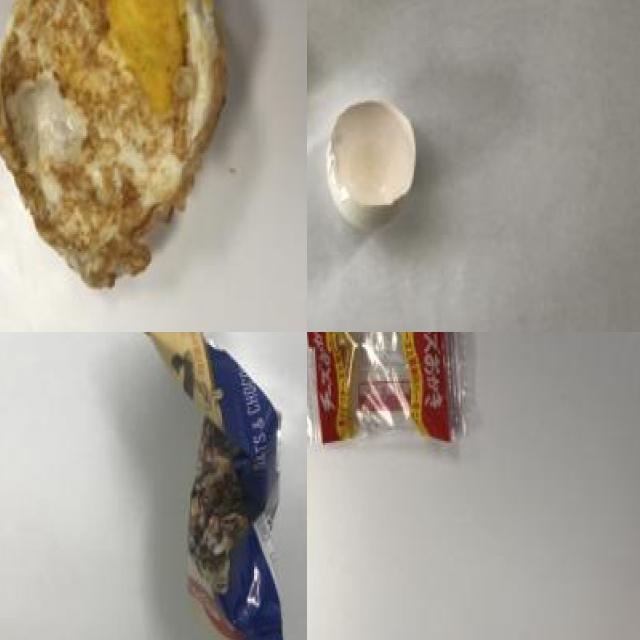compost: (0, 0, 256, 307), (307, 0, 423, 256)
trash: (117, 332, 307, 640), (307, 332, 497, 475)
